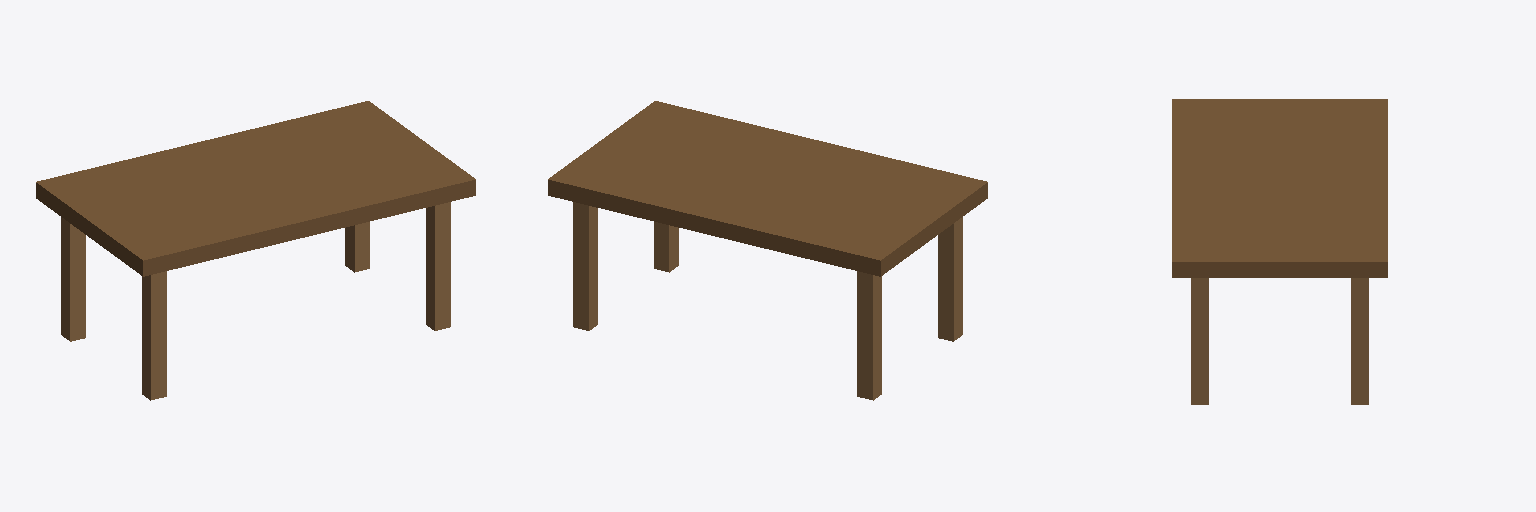
The model's file is table.obj.
The picture shows the model from 3 angles: view 1: azimuth 30°, elevation 25°; view 2: azimuth 150°, elevation 25°; view 3: azimuth 270°, elevation 25°; orthographic projection.
Parts seen in each view (by area): view 1: 004_Box, 003_Box_1, 002_Box_2, 001_Box_3, 000_Box_4; view 2: 004_Box, 001_Box_3, 000_Box_4, 003_Box_1, 002_Box_2; view 3: 004_Box, 000_Box_4, 002_Box_2.
Boxes of the visible parts, x1,y1,x2,y2 form: 004_Box: [36, 101, 475, 276]; 003_Box_1: [142, 271, 166, 400]; 002_Box_2: [426, 202, 450, 330]; 001_Box_3: [61, 217, 85, 341]; 000_Box_4: [345, 222, 369, 272]; 004_Box: [548, 101, 987, 276]; 001_Box_3: [857, 271, 881, 400]; 000_Box_4: [573, 202, 597, 330]; 003_Box_1: [938, 217, 962, 341]; 002_Box_2: [654, 222, 678, 272]; 004_Box: [1172, 99, 1387, 277]; 000_Box_4: [1351, 278, 1368, 404]; 002_Box_2: [1191, 278, 1208, 404].
Size of the model in its own units: 278 by 120 by 155.